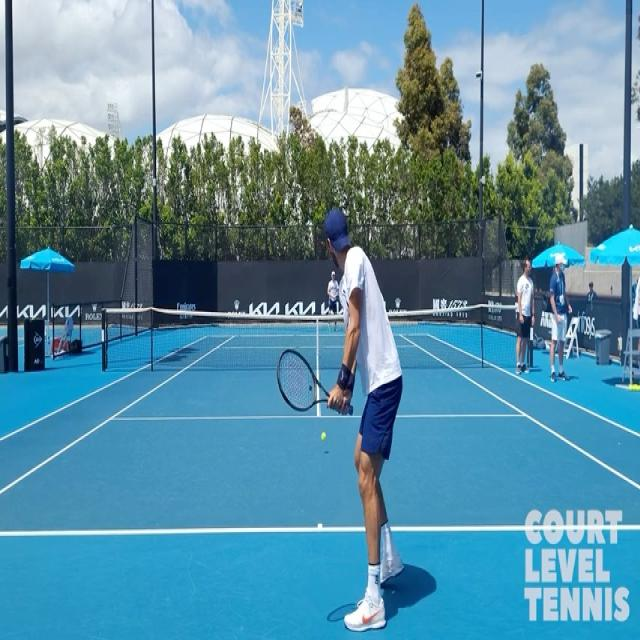backhand-ready: (275, 198, 409, 632)
